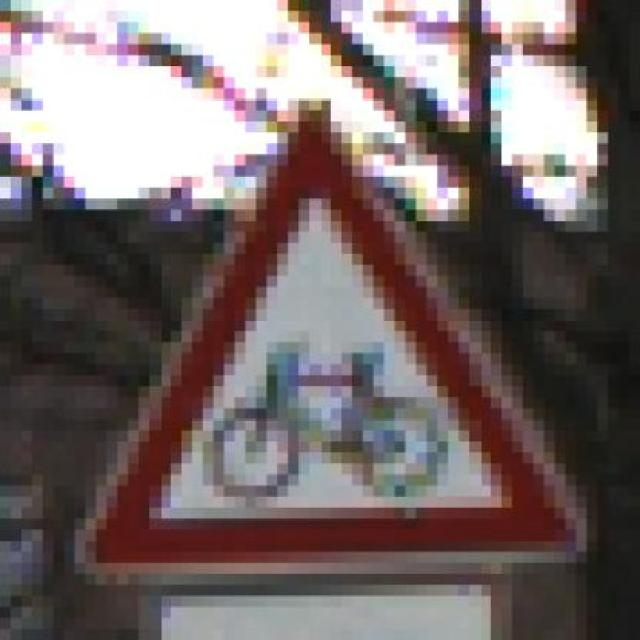CYCLE ROUTE AHEAD WARNING: (42, 77, 608, 585)
